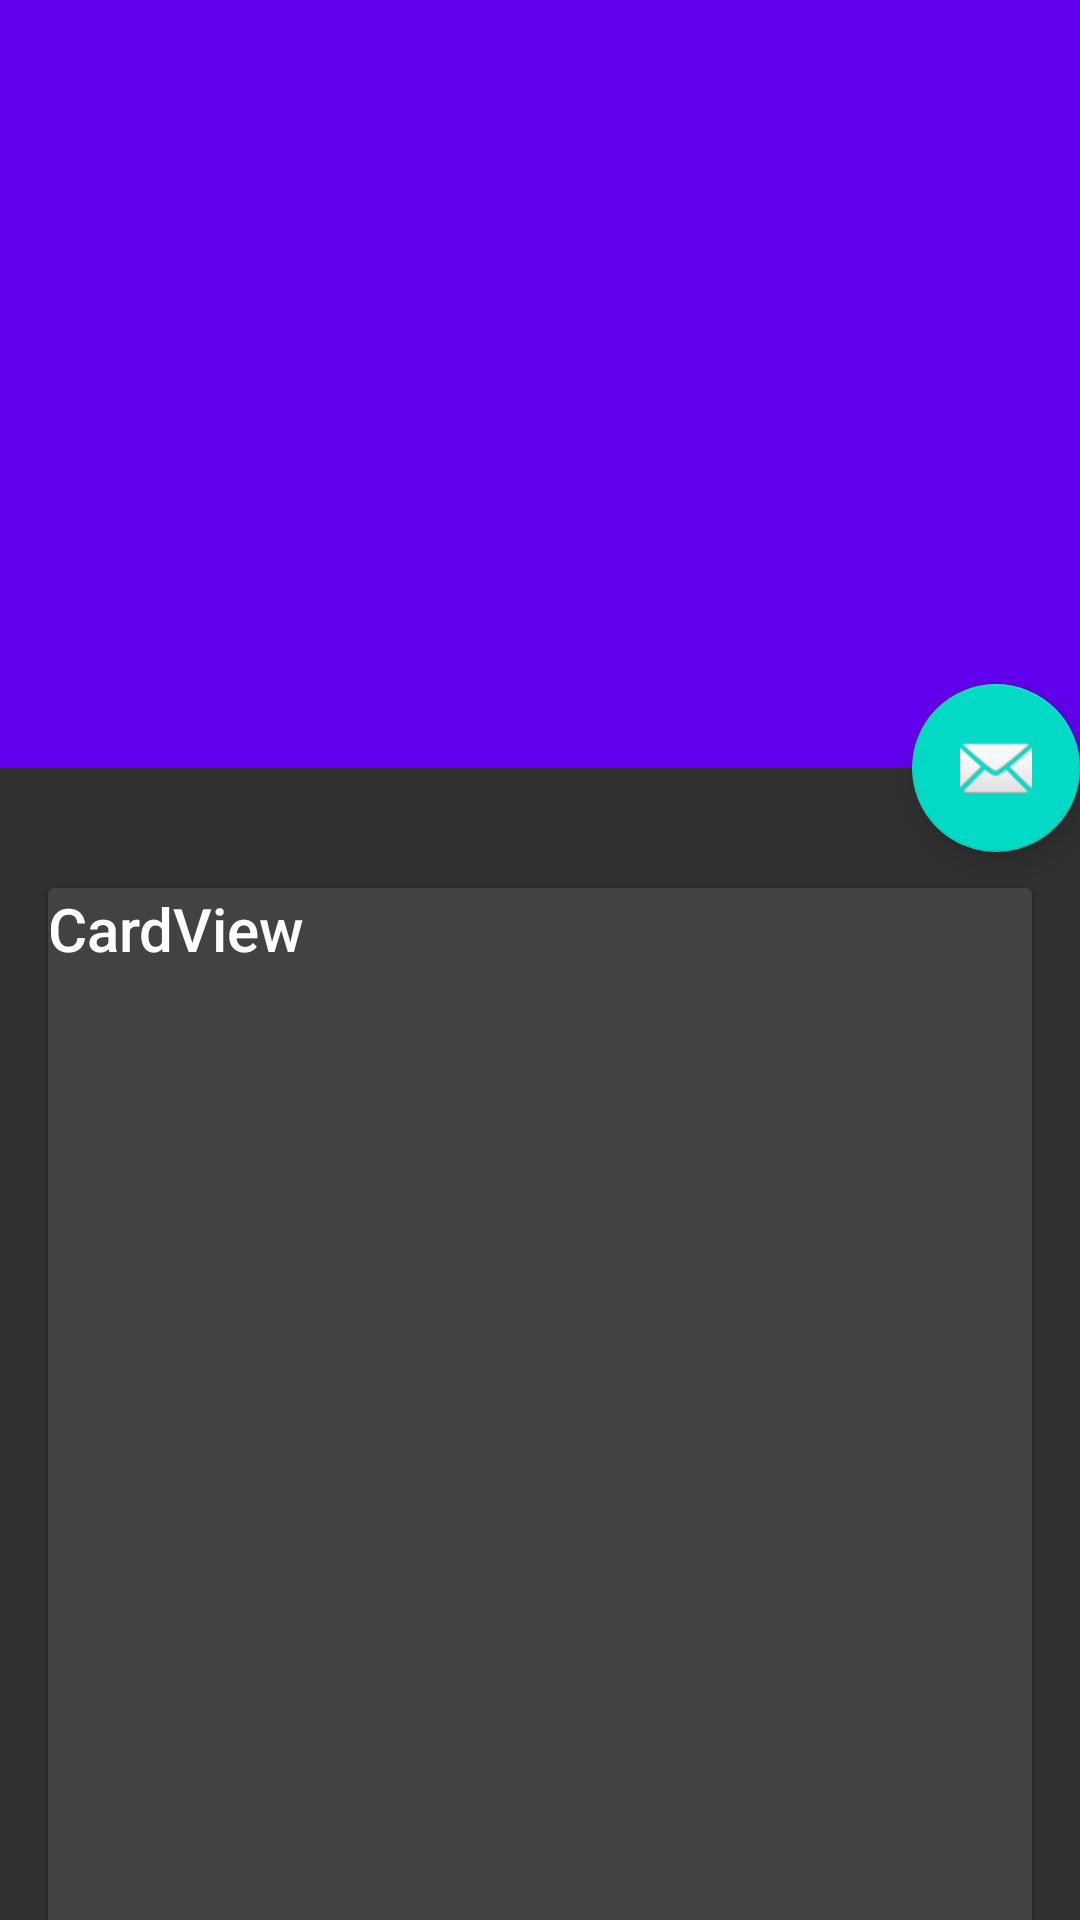

Icon click points for this 1080*1920 phone screenshot, format [x,y]:
email: [996,768]
